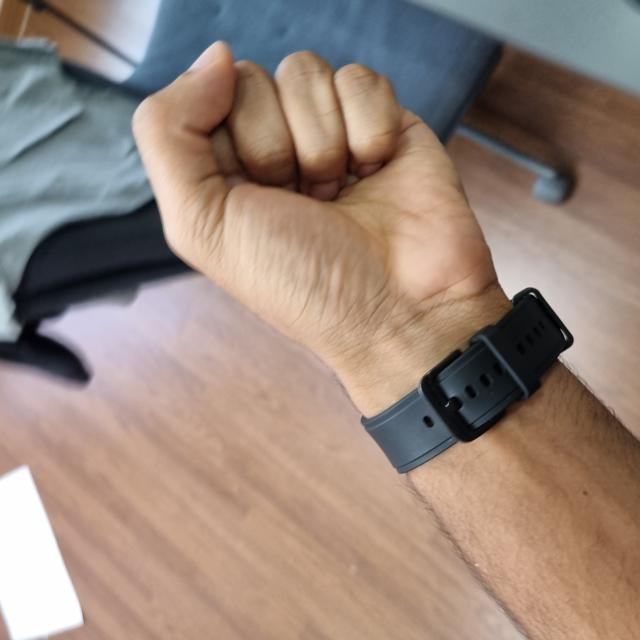Rock: (234, 135, 597, 499)
